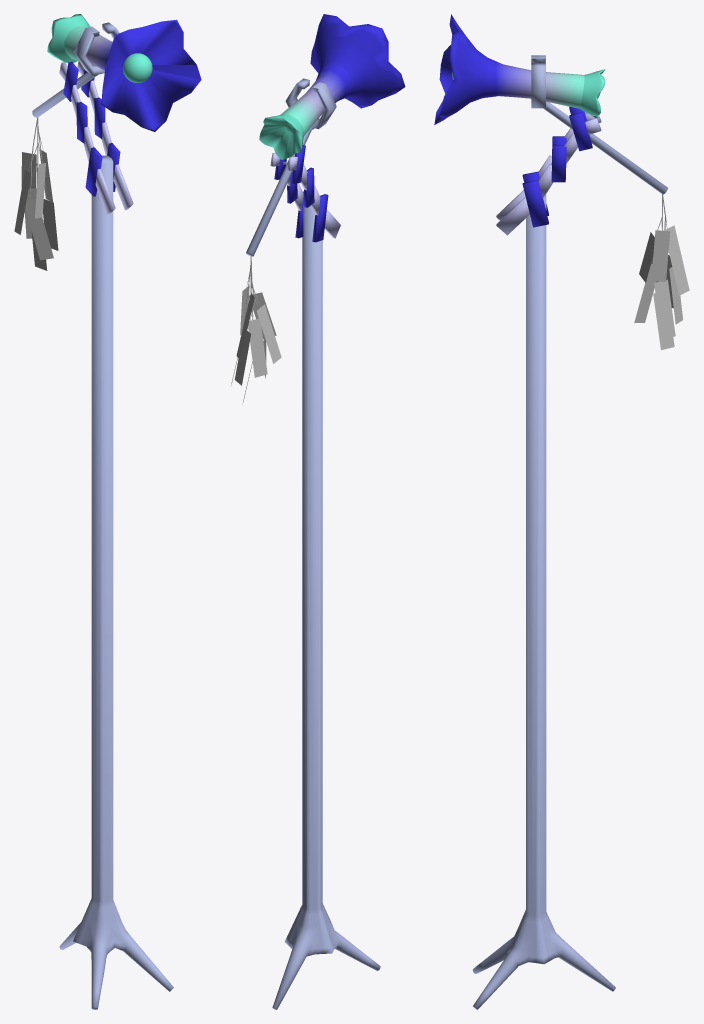
File: mic.glb
3 views of the same model, side by side, from view 1: azimuth 30°, elevation 25°; view 2: azimuth 150°, elevation 25°; view 3: azimuth 270°, elevation 25° (orthographic). The views are drawn at different scales.
Visible parts, largest first — view 1: 円柱.001; view 2: 円柱.001; view 3: 円柱.001.
Part boxes in pixels (<box>): 円柱.001: <box>14,14,201,1009</box>; 円柱.001: <box>231,14,405,1009</box>; 円柱.001: <box>434,14,689,1009</box>.
Bounding box in the file's own units: 1.48 × 13.89 × 3.33.
Materials: 6 (1 with a texture image).
